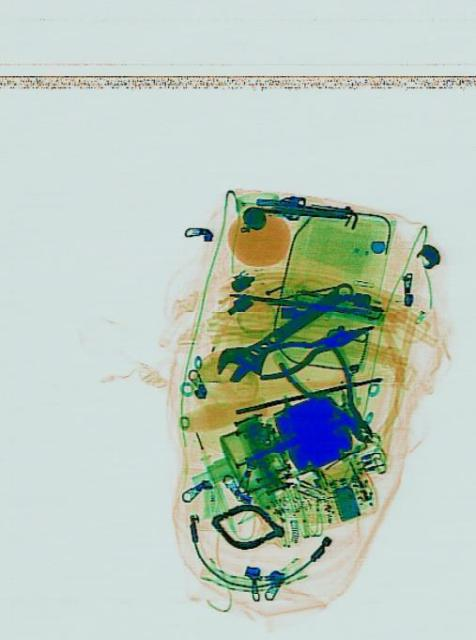Pliers: (276, 321, 391, 464), (252, 313, 375, 381)
Wrench: (208, 265, 357, 397)
